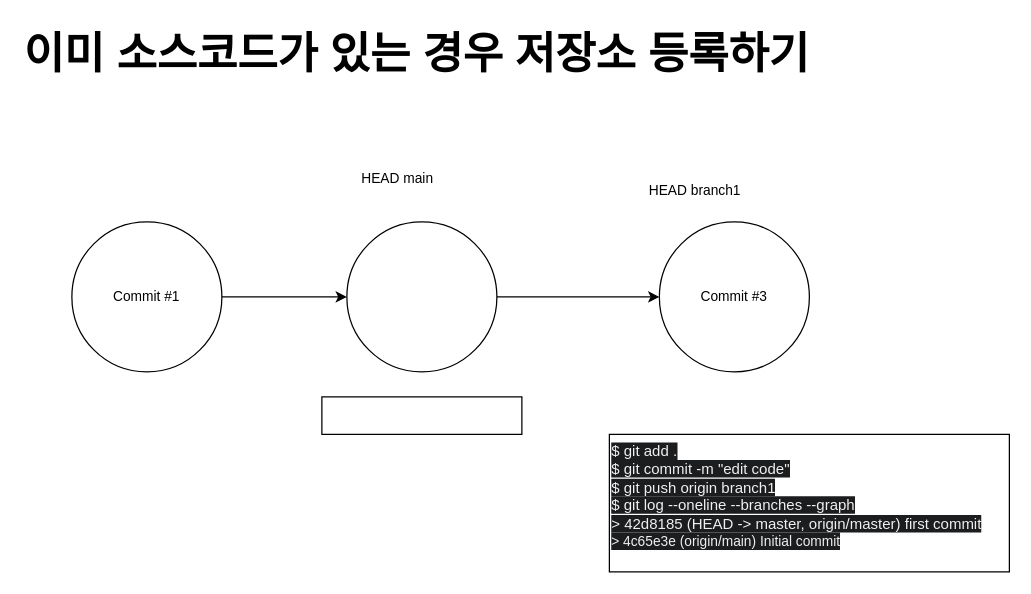
This 1031x594 diagram has some shape labels left out. Here are the shapes that lost their labels. From the top down, the centre of each, then its label:
[421,296]: Commit #2
[421,415]: $ git clone "저징소" -b main
